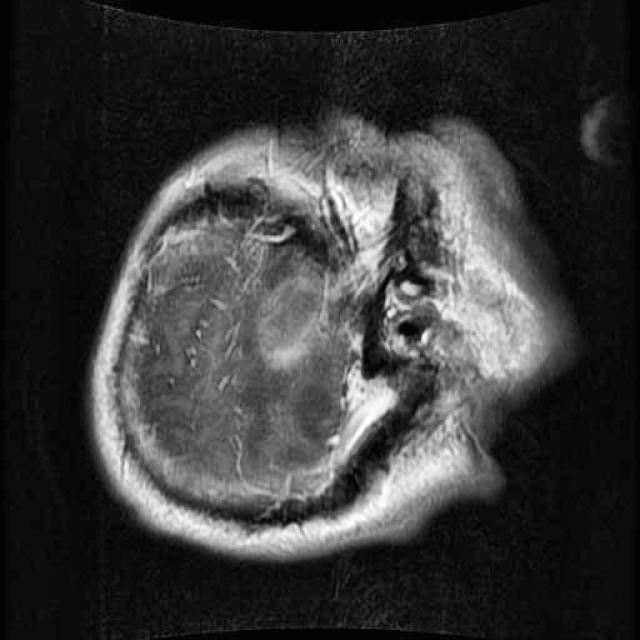Tumor: (240, 240, 340, 382)
